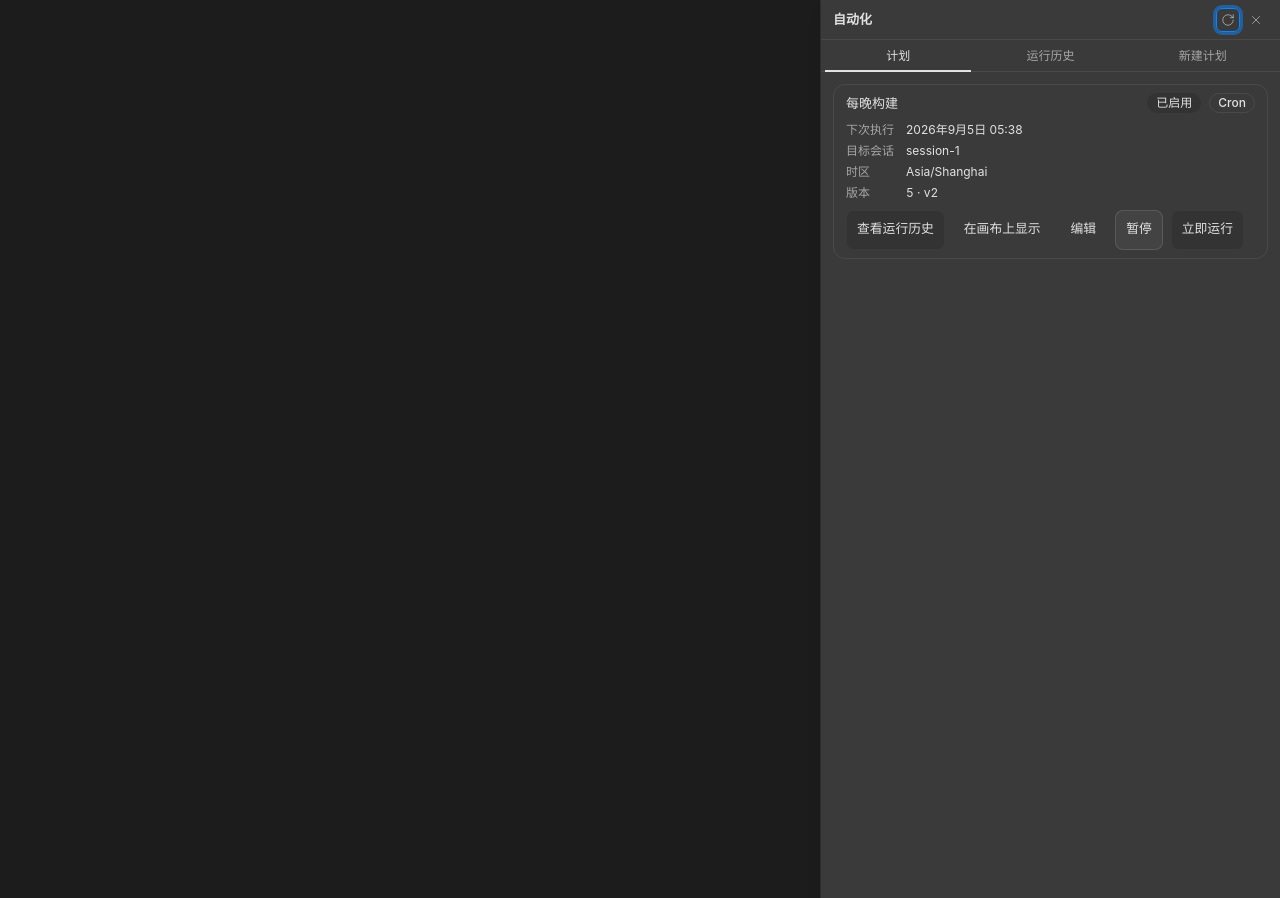
Test case: editing a plan › shows the frozen target read-only rather than re-picking one
Click the button "编辑" at (1083, 230), box [1060,210,1107,250]
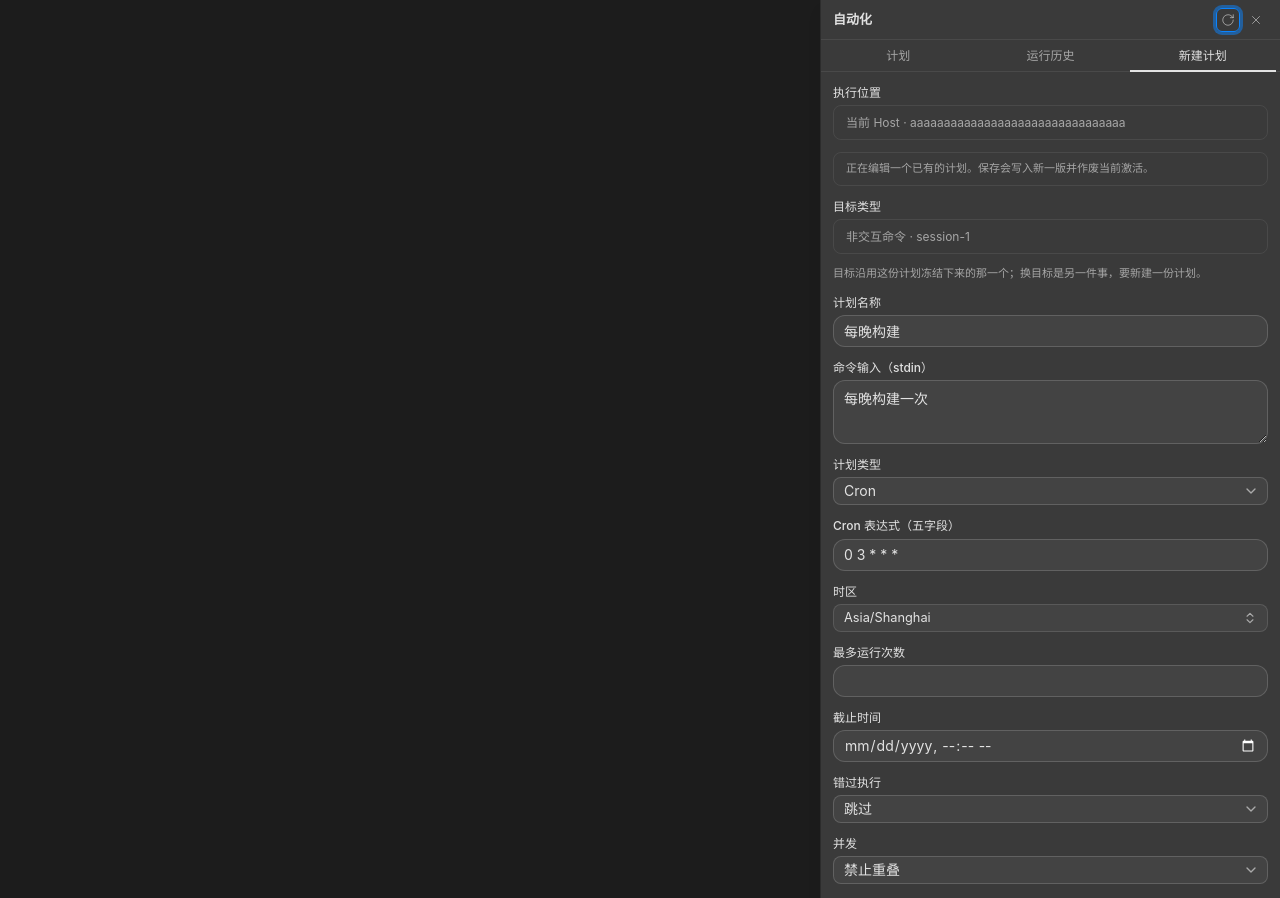
Result: the text "目标沿用这份计划冻结下来的那一个；换目标是另一件事，要新建一份计划。" is shown at [833,266,1268,282]
